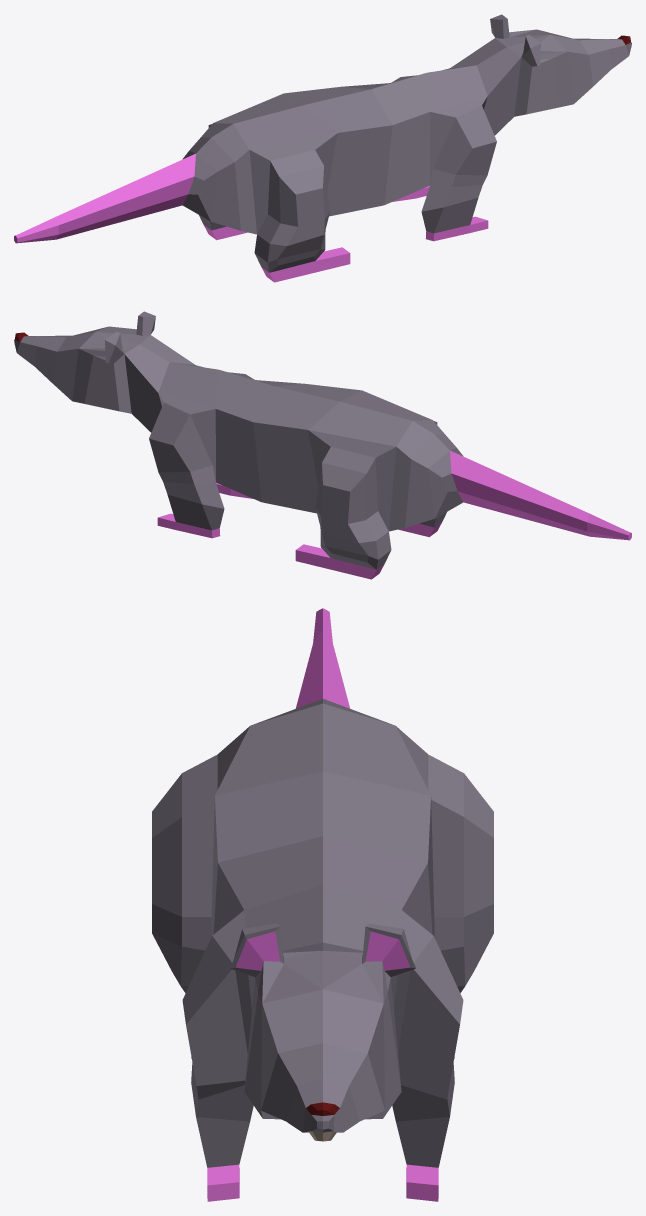
File: rataparagodot.glb
The picture shows the model from 3 angles, top to bottom: view 1: azimuth 30°, elevation 25°; view 2: azimuth 150°, elevation 25°; view 3: azimuth 270°, elevation 25°; orthographic projection. The views are drawn at different scales.
Parts seen in each view (by area): view 1: Cube.003; view 2: Cube.003; view 3: Cube.003.
Boxes of the visible parts, x1,y1,x2,y2 form: Cube.003: (14, 14, 631, 282); Cube.003: (14, 311, 631, 579); Cube.003: (152, 608, 493, 1201).
Size of the model in its own units: 3.6 by 0.9357 by 0.8654.
Materials: 4 (1 with a texture image).
